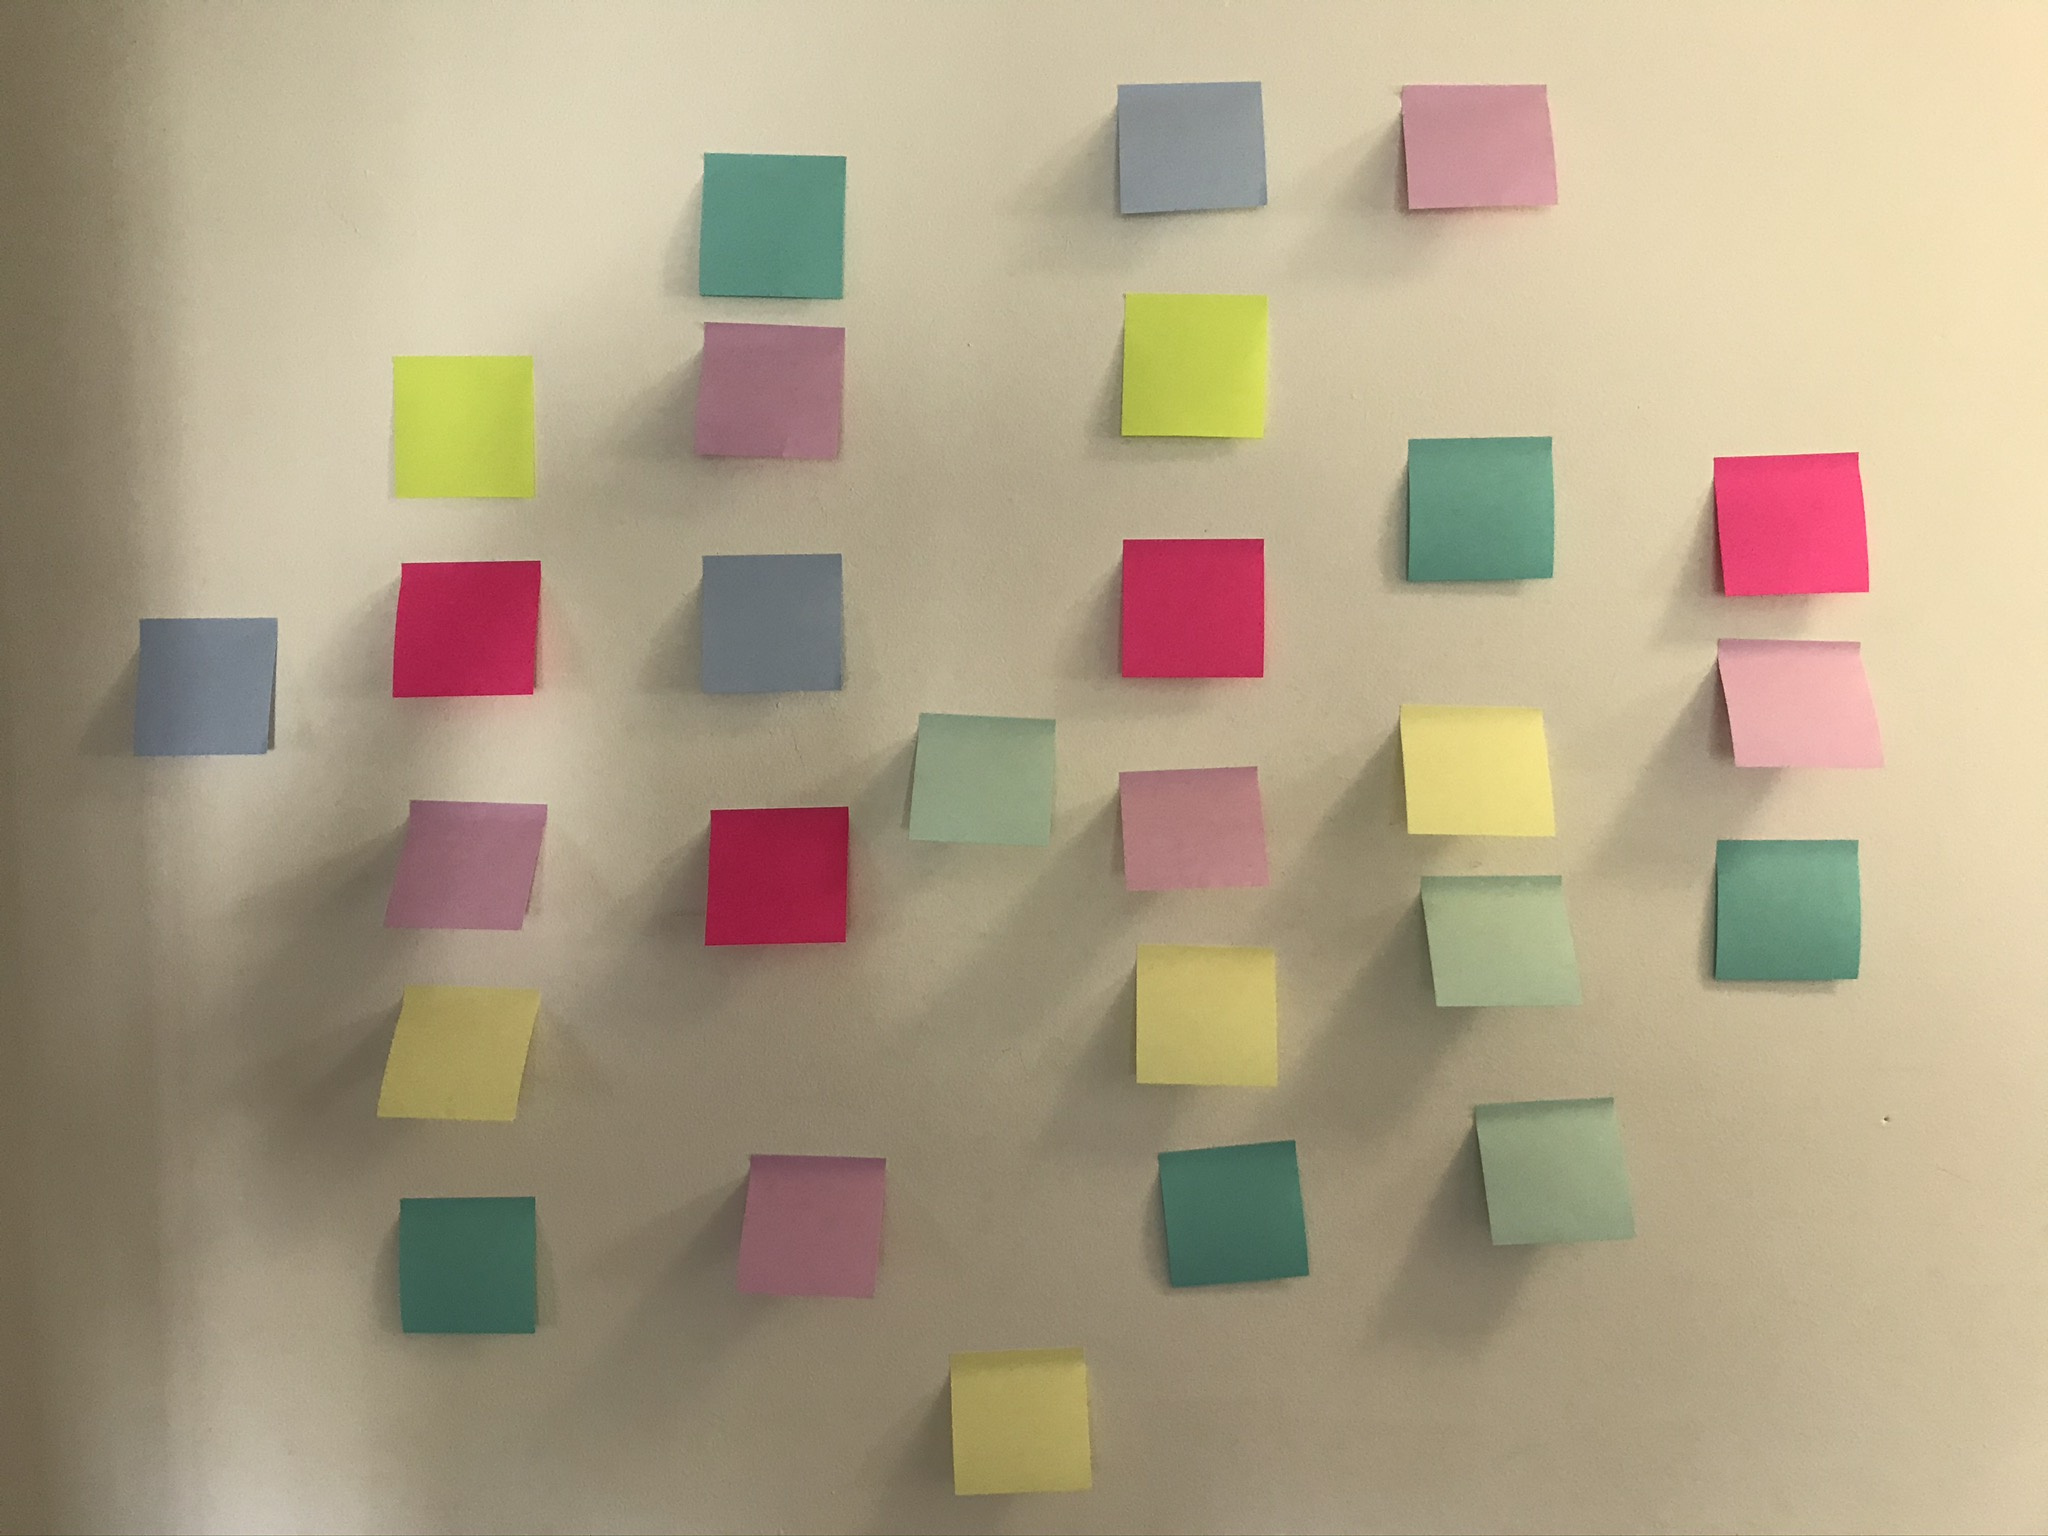sticky: (1472, 1096, 1638, 1250), (1158, 1137, 1313, 1289), (1709, 453, 1872, 597), (1713, 637, 1887, 771), (1121, 290, 1271, 442), (1405, 436, 1558, 584), (377, 981, 539, 1121), (693, 319, 848, 465), (734, 1154, 890, 1297), (382, 799, 550, 933), (698, 152, 847, 302), (1134, 937, 1280, 1089), (950, 1346, 1097, 1497), (1398, 702, 1558, 841), (1417, 874, 1582, 1008), (390, 352, 534, 502), (1118, 537, 1269, 679), (901, 710, 1059, 845), (1713, 837, 1861, 981), (126, 618, 281, 753), (705, 805, 851, 945), (1118, 81, 1269, 216), (1401, 81, 1558, 211), (701, 553, 847, 694), (393, 561, 542, 699), (1118, 765, 1274, 892), (398, 1196, 539, 1338)
